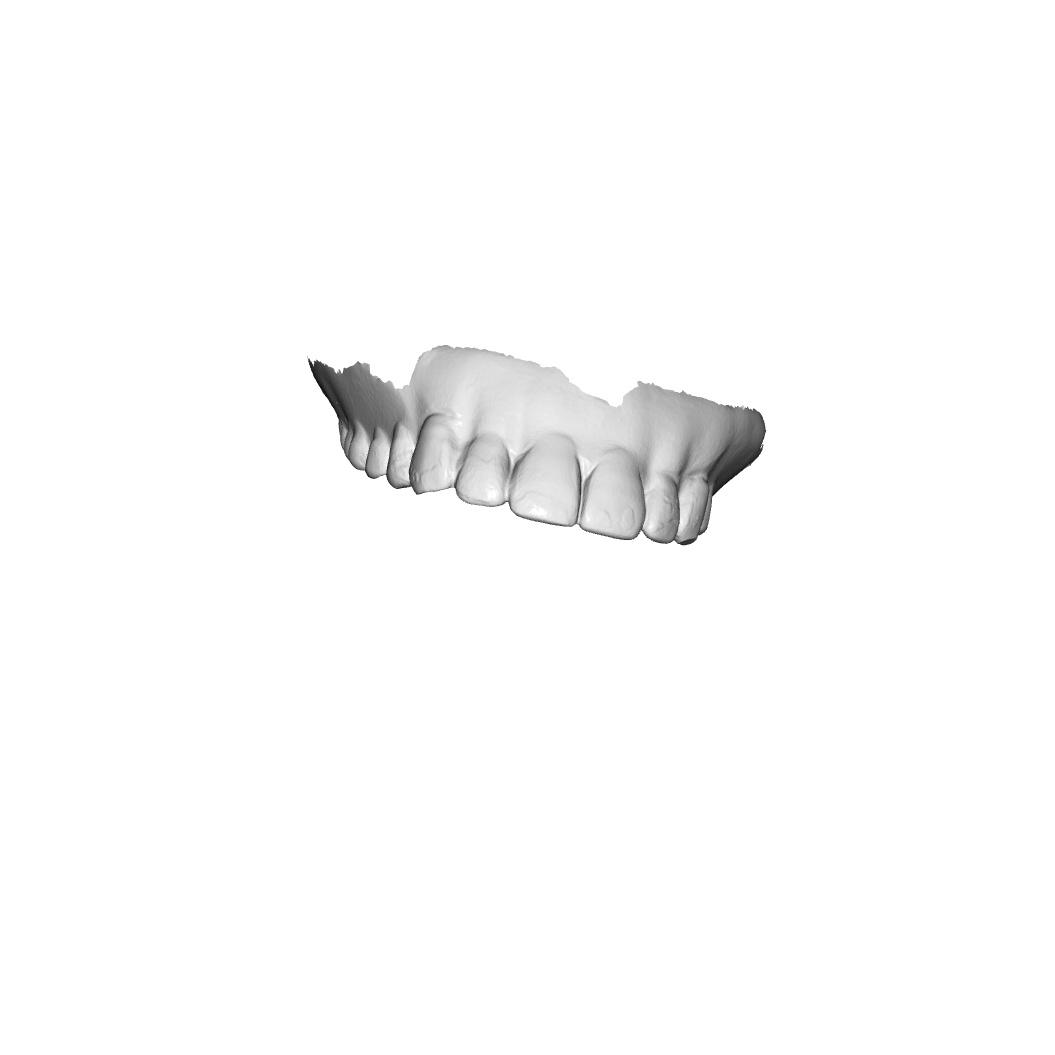canine: (410, 411, 455, 495), (674, 468, 711, 547)
incisor: (507, 436, 581, 528), (577, 454, 645, 544), (454, 435, 515, 509), (643, 473, 679, 547)
molar: (344, 424, 370, 474)
premolar: (388, 424, 411, 491), (363, 427, 389, 484)
